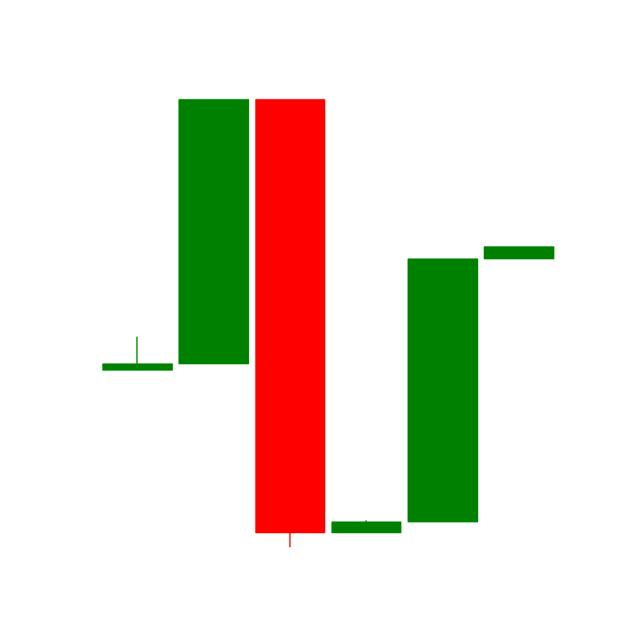Four price doji: (484, 246, 554, 260)
